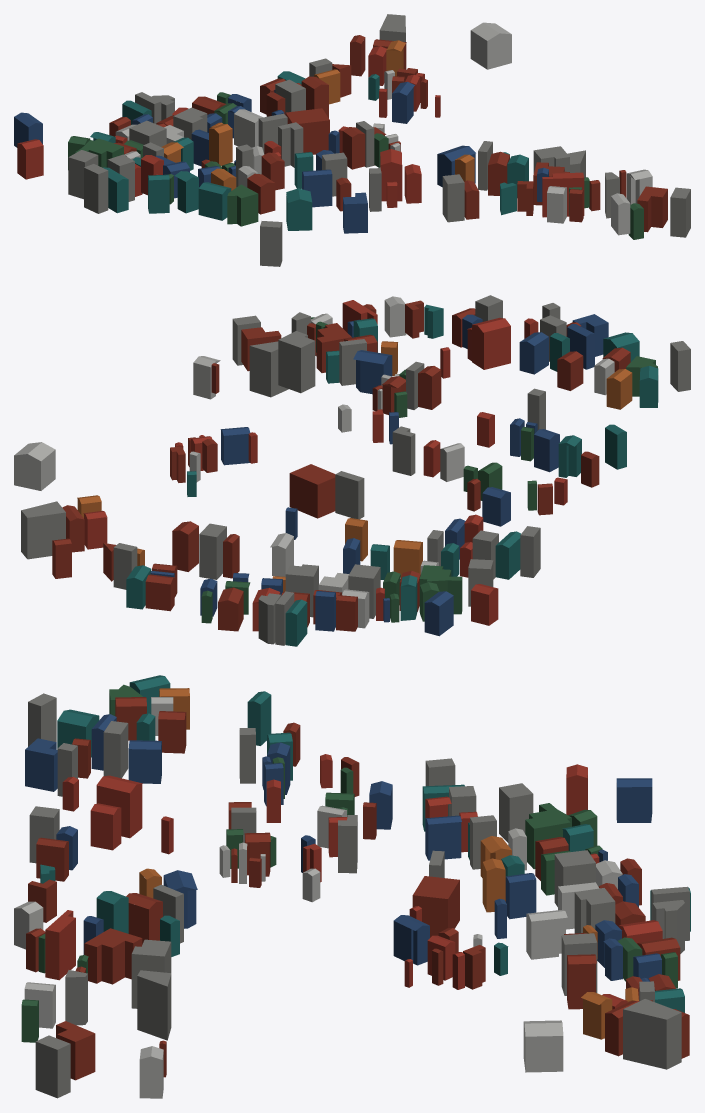
Rendered from near-17-109438-59473.ccd66f48.glb.
The picture shows the model from 3 angles, top to bottom: view 1: azimuth 30°, elevation 25°; view 2: azimuth 150°, elevation 25°; view 3: azimuth 270°, elevation 25°; orthographic projection. The views are drawn at different scales.
Bounding box in the file's own units: 302 × 95.58 × 302.
